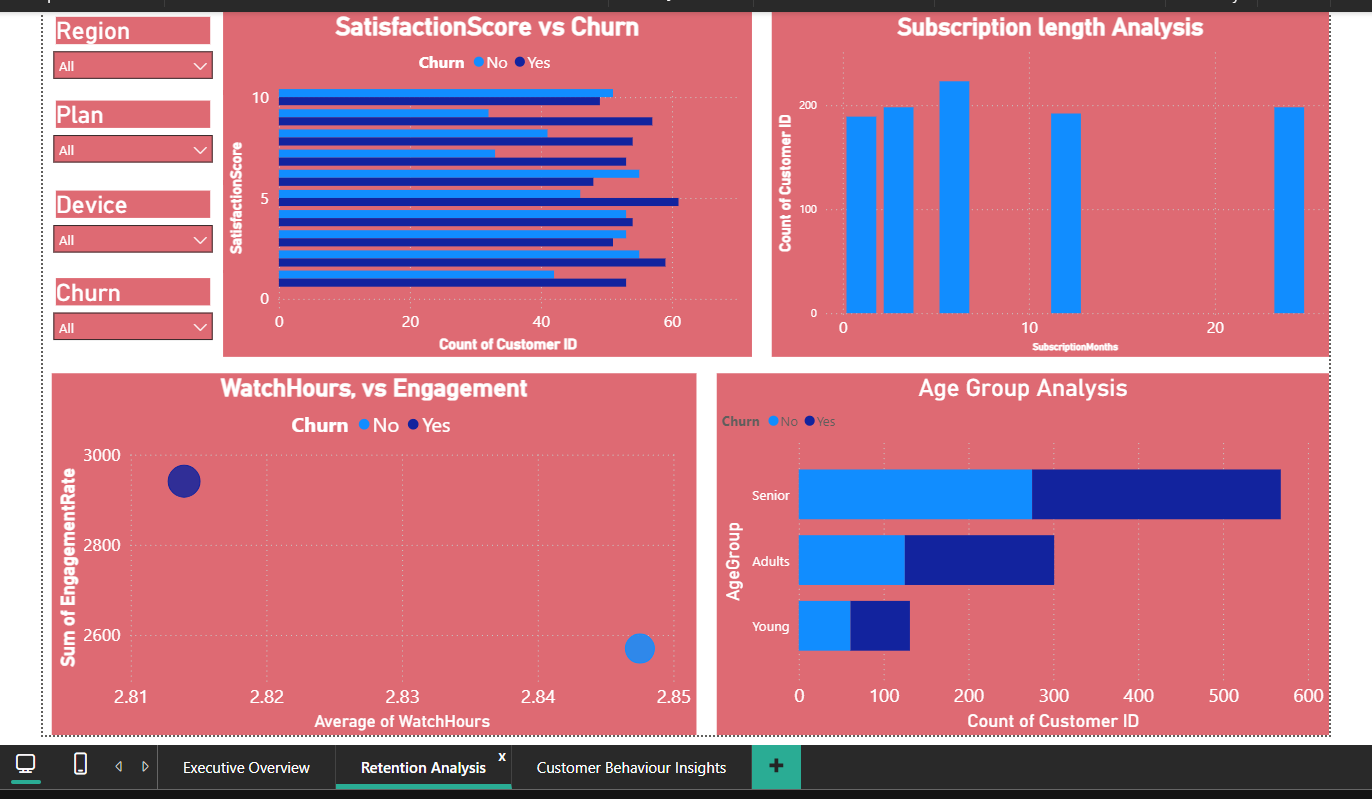

What the dashboard file says about the page in this screenshot:
{"tool":"powerbi","page":{"name":"Retention Analysis","canvas":[1280,720],"ordinal":1},"visuals":[{"type":"clusteredBarChart","title":"SatisfactionScore vs Churn","fields":{"Category":["Sheet1.SatisfactionScore"],"Y":["CountNonNull(Sheet1.Customer ID)"],"Series":["Sheet1.Churn"]},"box":[179.1,0,526.2,343.3],"z":0},{"type":"scatterChart","title":"WatchHours, vs  Engagement","fields":{"Y":["Sum(Sheet1.EngagementRate)"],"Series":["Sheet1.Churn"],"Size":["Sum(Sheet1.SubscriptionMonths)"],"X":["Avg(Sheet1.WatchHours)"]},"box":[8.7,359.5,641.9,360.7],"z":1000},{"type":"clusteredColumnChart","title":"Subscription length Analysis","fields":{"Category":["Sheet1.SubscriptionMonths"],"Y":["CountNonNull(Sheet1.Customer ID)"]},"box":[725.2,0,554.8,343.3],"z":2000},{"type":"barChart","title":"Age Group Analysis","fields":{"Category":["Sheet1.AgeGroup"],"Y":["CountNonNull(Sheet1.Customer ID)"],"Series":["Sheet1.Churn"]},"box":[670.5,359.5,609.5,360.7],"z":3000},{"type":"slicer","fields":{"Values":["Sheet1.Region"]},"box":[0,0,179.1,77.1],"z":4000},{"type":"slicer","fields":{"Values":["Sheet1.Plan"]},"box":[0,83.3,179.1,83.3],"z":4001},{"type":"slicer","fields":{"Values":["Sheet1.Device"]},"box":[0,172.9,179.1,83.3],"z":4002},{"type":"slicer","fields":{"Values":["Sheet1.Churn"]},"box":[0,260,179.1,83.3],"z":4003}]}

Visuals, with their boxes in screenshot pixels (x1, y1, x2, y2):
"SatisfactionScore vs Churn" clusteredBarChart: detection(211, 7, 748, 357)
"WatchHours, vs  Engagement" scatterChart: detection(37, 374, 692, 741)
"Subscription length Analysis" clusteredColumnChart: detection(768, 7, 1334, 357)
"Age Group Analysis" barChart: detection(712, 374, 1334, 741)
slicer - Sheet1.Region: detection(29, 7, 211, 86)
slicer - Sheet1.Plan: detection(29, 92, 211, 177)
slicer - Sheet1.Device: detection(29, 183, 211, 268)
slicer - Sheet1.Churn: detection(29, 272, 211, 357)
